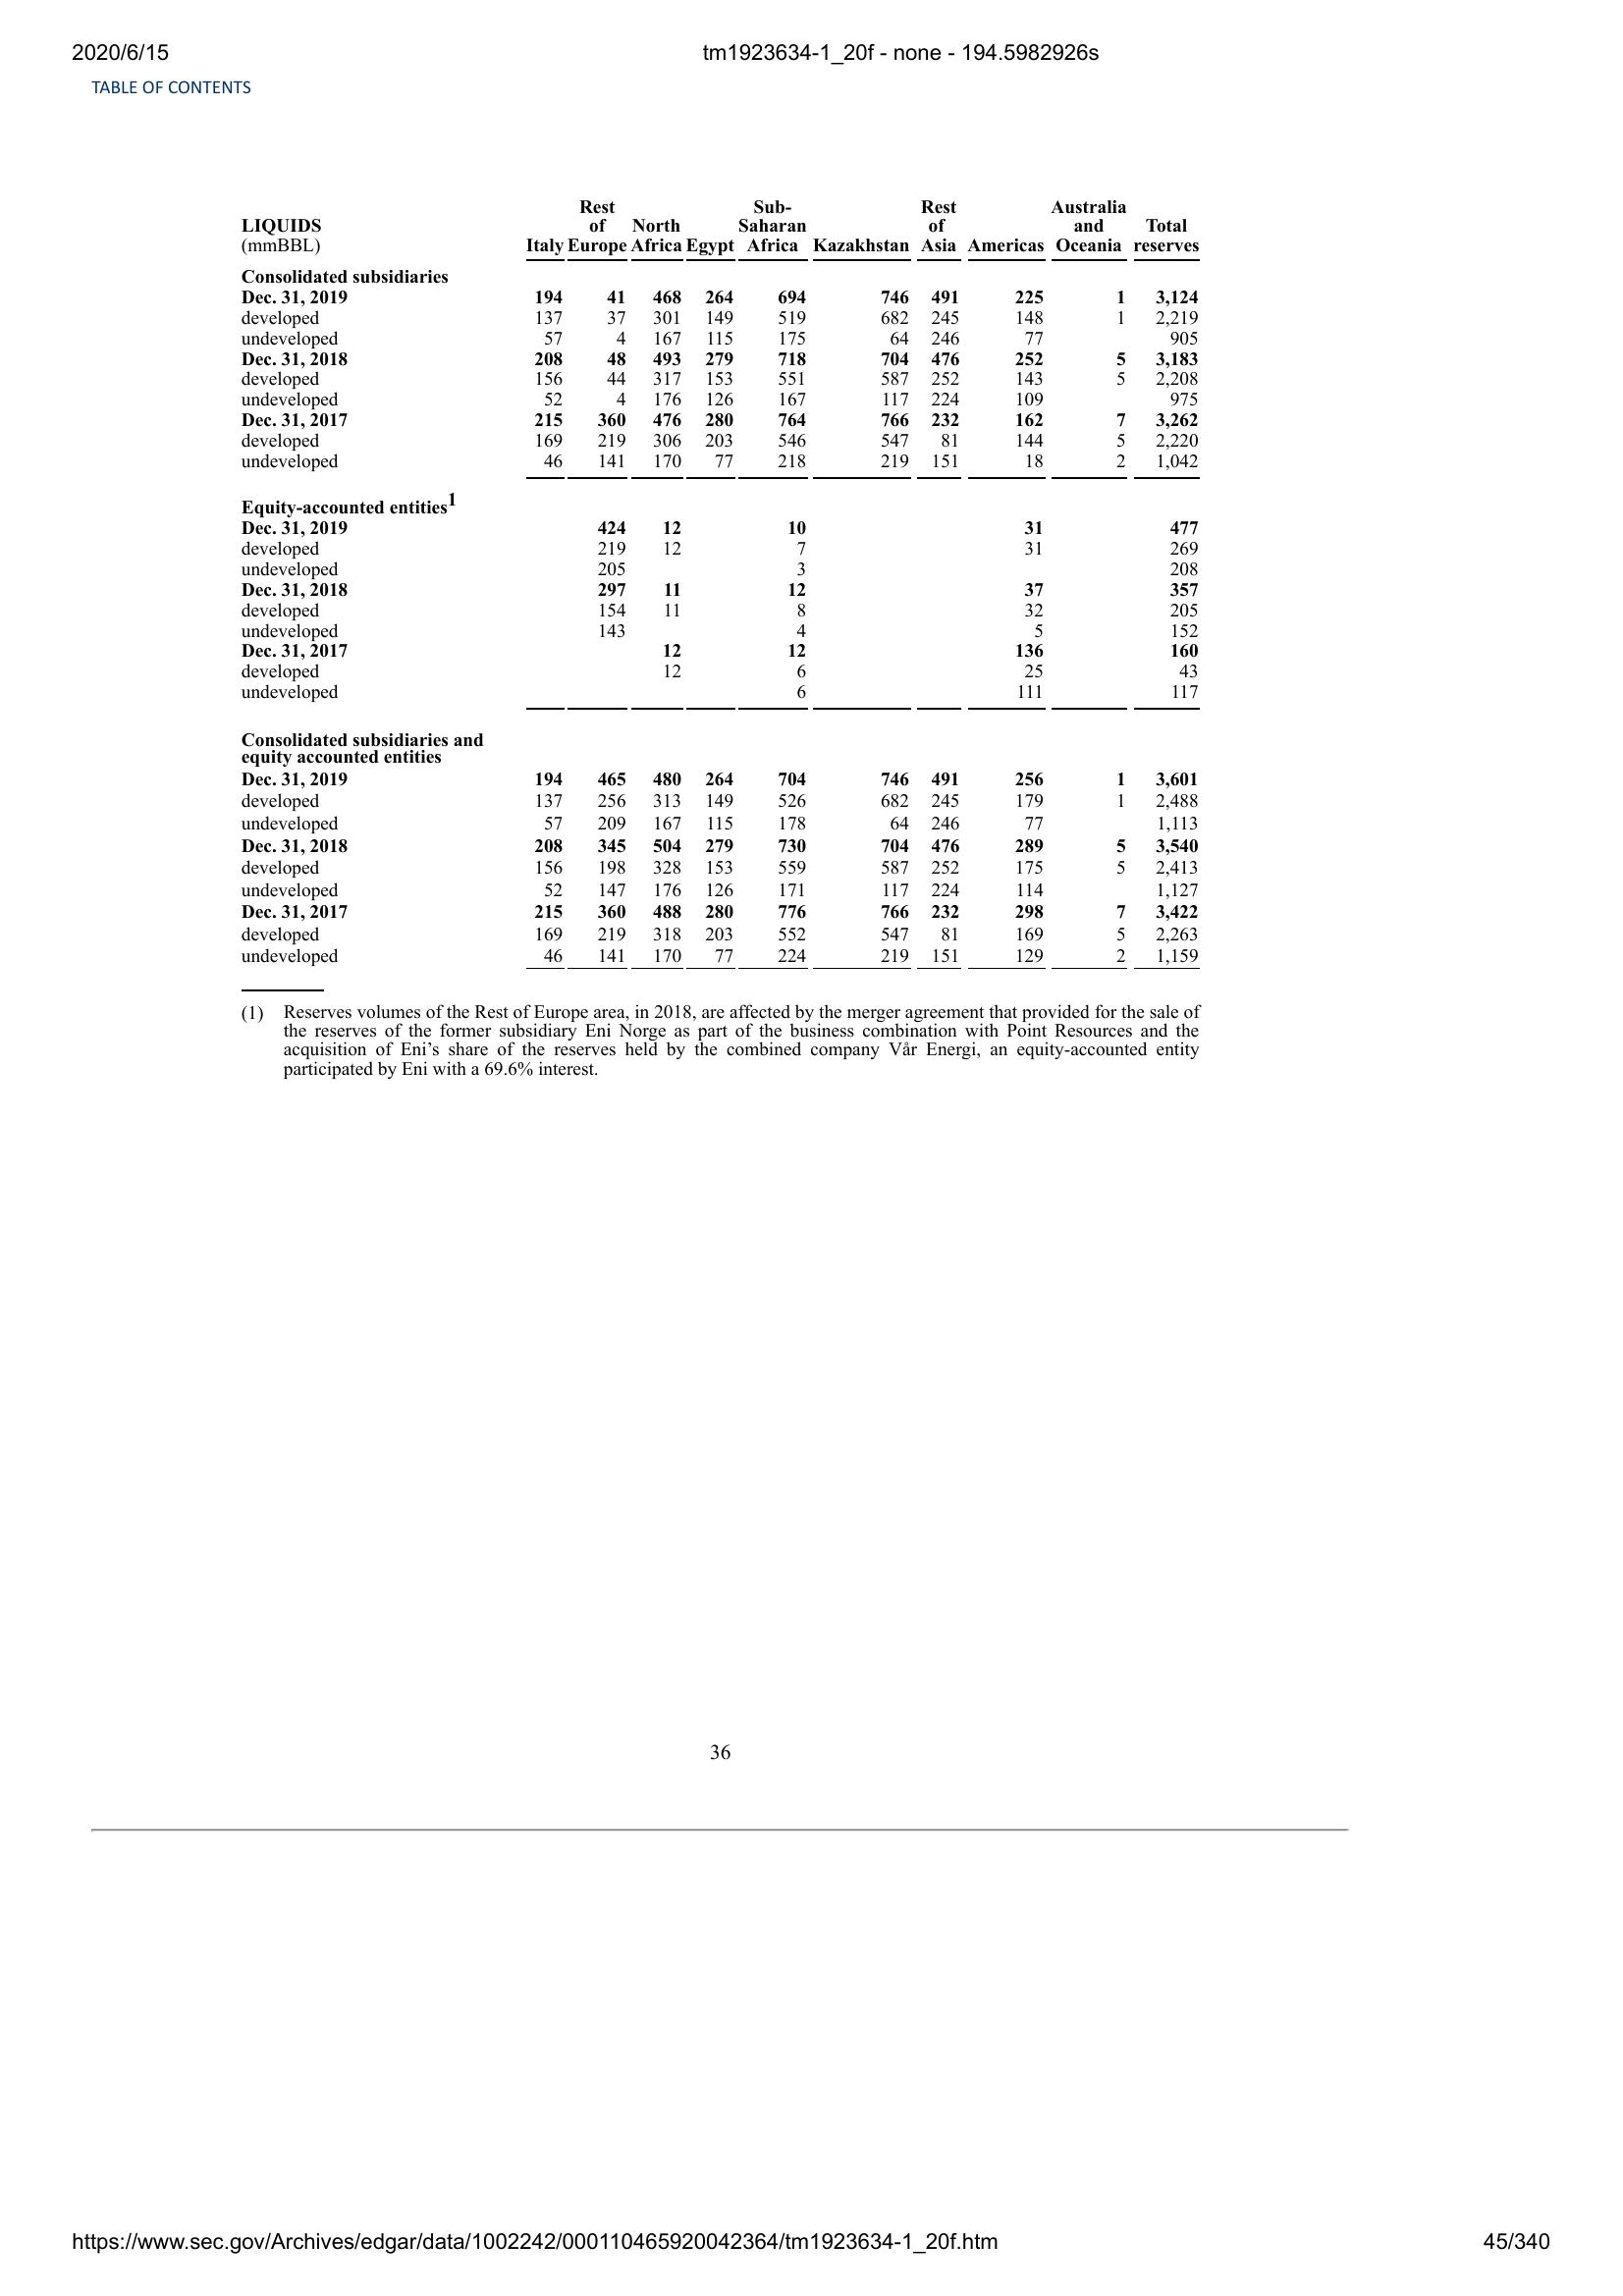table: (235, 195, 1208, 972)
